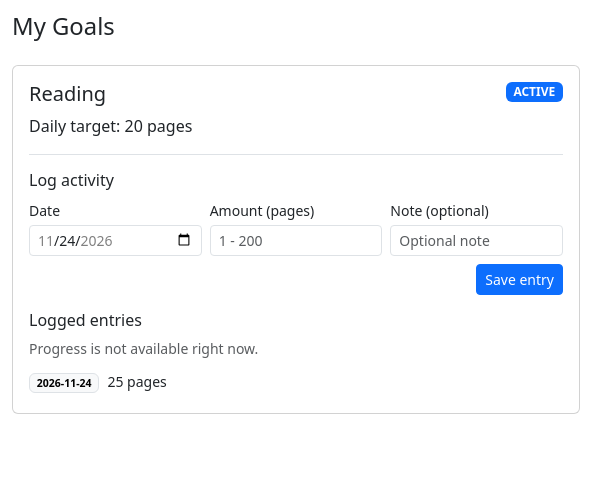
F-04 Daily activity logging UI › TEST-L6-64 (#64, F-04 §4): after saving an older date the history stays ordered newest date first
This screenshot has width=597, height=504.
Check: the text "25 pages" is shown, box [107,372,167,391]
Type "2026-11-23" into the date field labelled "Date" at x=115, y=240, box [29,225,202,256]
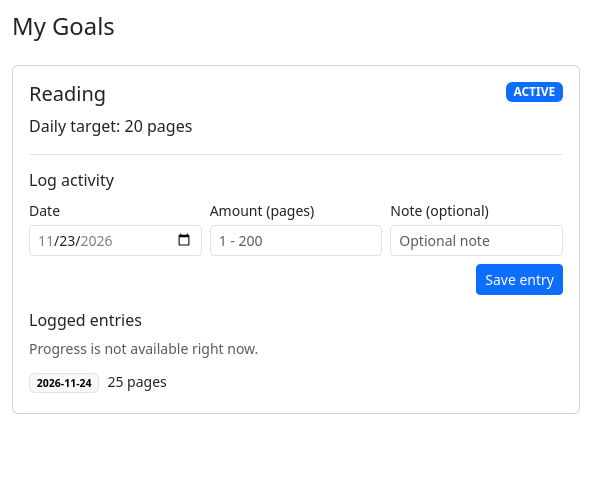
Type "10" into the number field labelled "Amount (pages)" at x=296, y=240, box [210,225,382,256]
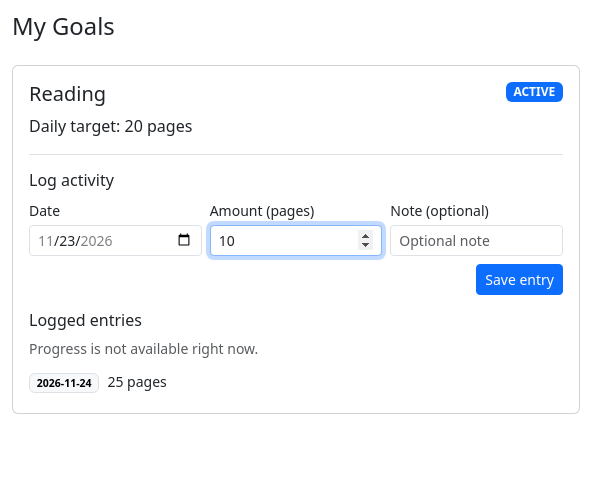
Click the button "Save entry" at x=520, y=279, box [476,264,563,295]
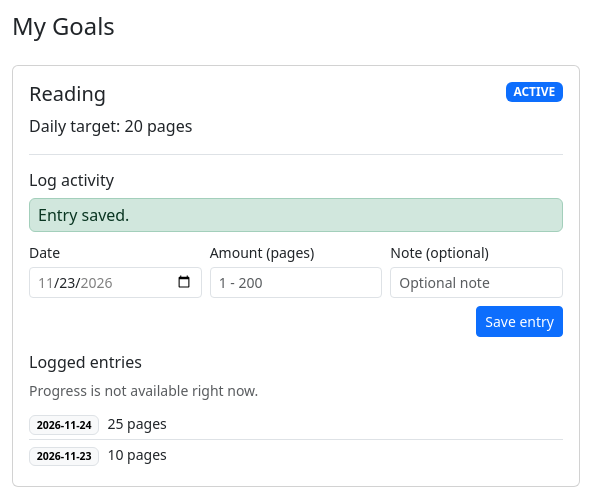
Check: the text "Entry saved." is shown, box [29,198,563,232]
